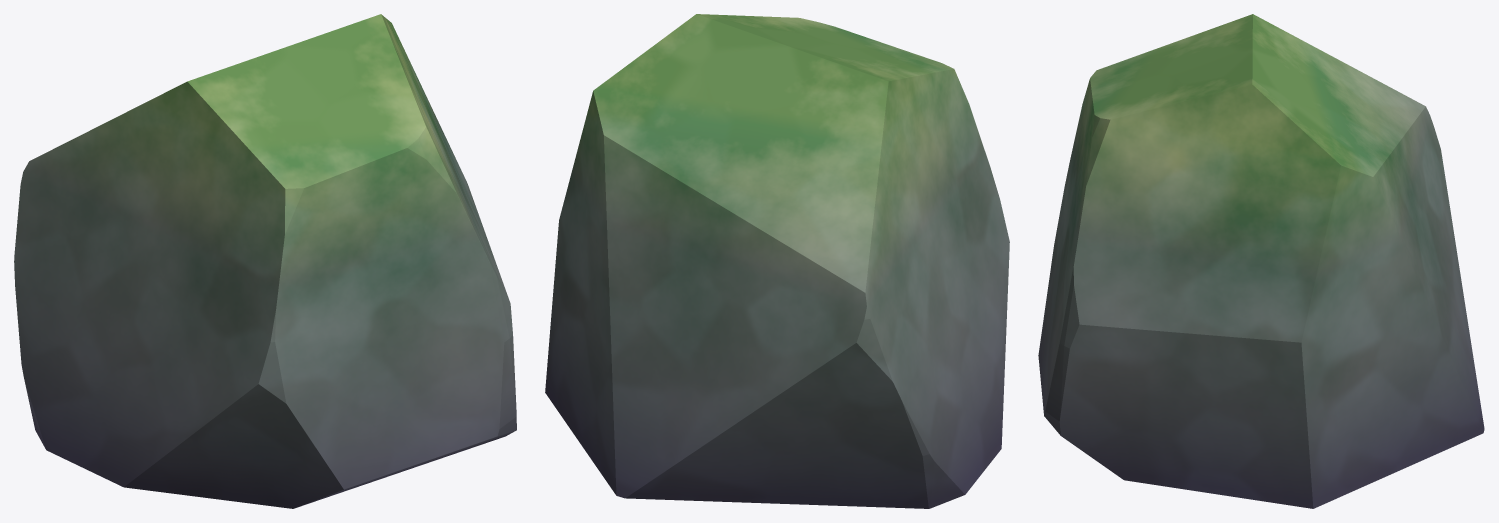
The model's file is rock_small.fbx.
The picture shows the model from 3 angles, left to right: view 1: azimuth 30°, elevation 25°; view 2: azimuth 150°, elevation 25°; view 3: azimuth 270°, elevation 25°; orthographic projection. The views are drawn at different scales.
Visible parts, largest first — view 1: rock_small; view 2: rock_small; view 3: rock_small.
Part boxes in pixels (left/top/right/bottom): rock_small: left=14, top=14, right=516, bottom=508; rock_small: left=545, top=14, right=1009, bottom=508; rock_small: left=1038, top=14, right=1484, bottom=508.
Bounding box in the file's own units: 111 × 97.49 × 107.
Materials: 1 (1 with a texture image).
